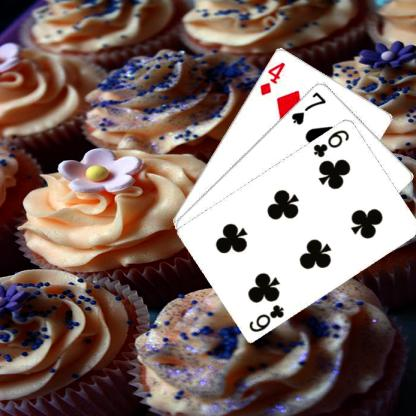4D: (257, 58, 287, 96)
6C: (310, 126, 350, 158), (246, 302, 286, 334)
7S: (289, 89, 327, 126)
